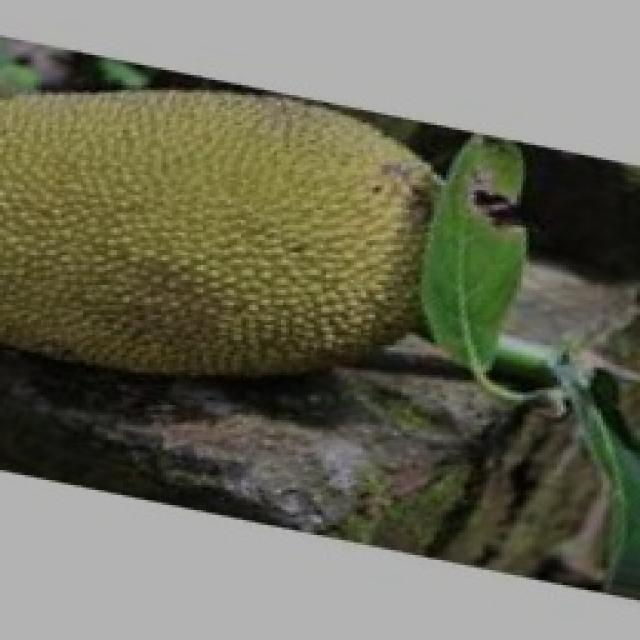Fruit: (0, 28, 409, 432)
